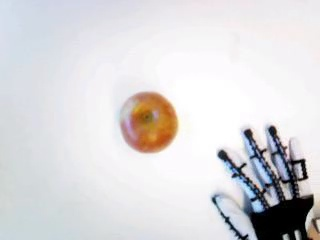apple: (120, 91, 174, 154)
hand: (209, 124, 320, 240)
